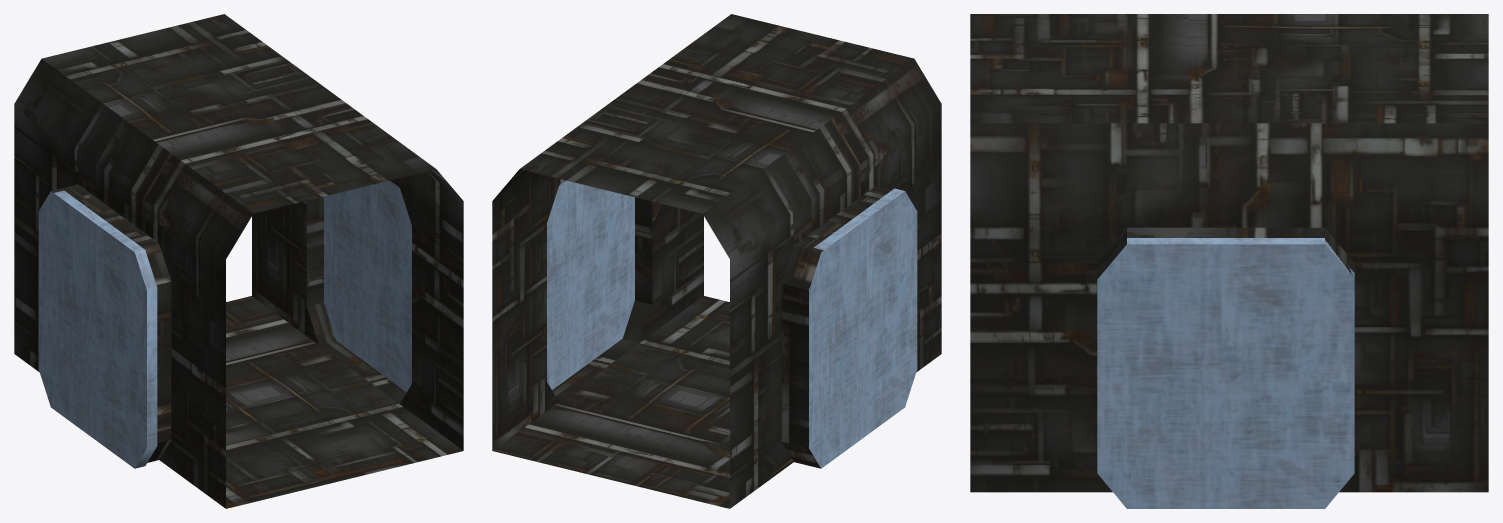
Rendered from corridor.fbx.
3 renders of one model, left to right at view 1: azimuth 30°, elevation 25°; view 2: azimuth 150°, elevation 25°; view 3: azimuth 270°, elevation 25°, orthographic. The views are drawn at different scales.
Visible parts, largest first — view 1: corridor; view 2: corridor; view 3: corridor.
Boxes of the visible parts, box(x1,y1,x2,y2) form: corridor: box(14, 14, 463, 508); corridor: box(492, 14, 941, 508); corridor: box(970, 14, 1488, 508).
Bounding box in the file's own units: 3.21 × 3.03 × 4.03.
